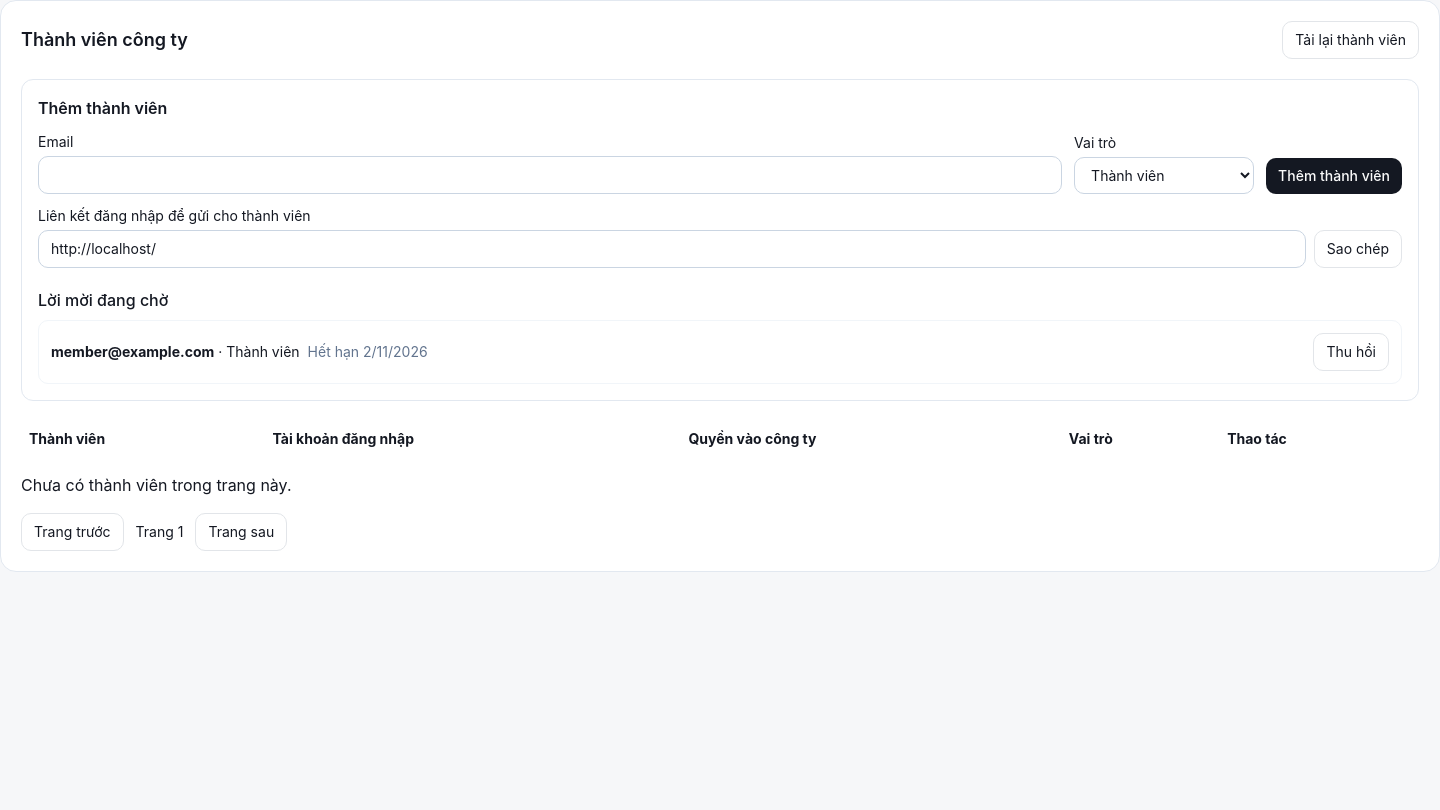
Test: clears a displayed password when fresh authority validation fails
Expected: the text "member@example.com" is shown, [51,343,214,360]
In the field named "Email thành viên": (550, 175) [38,156,1062,194], type "new@example.com"
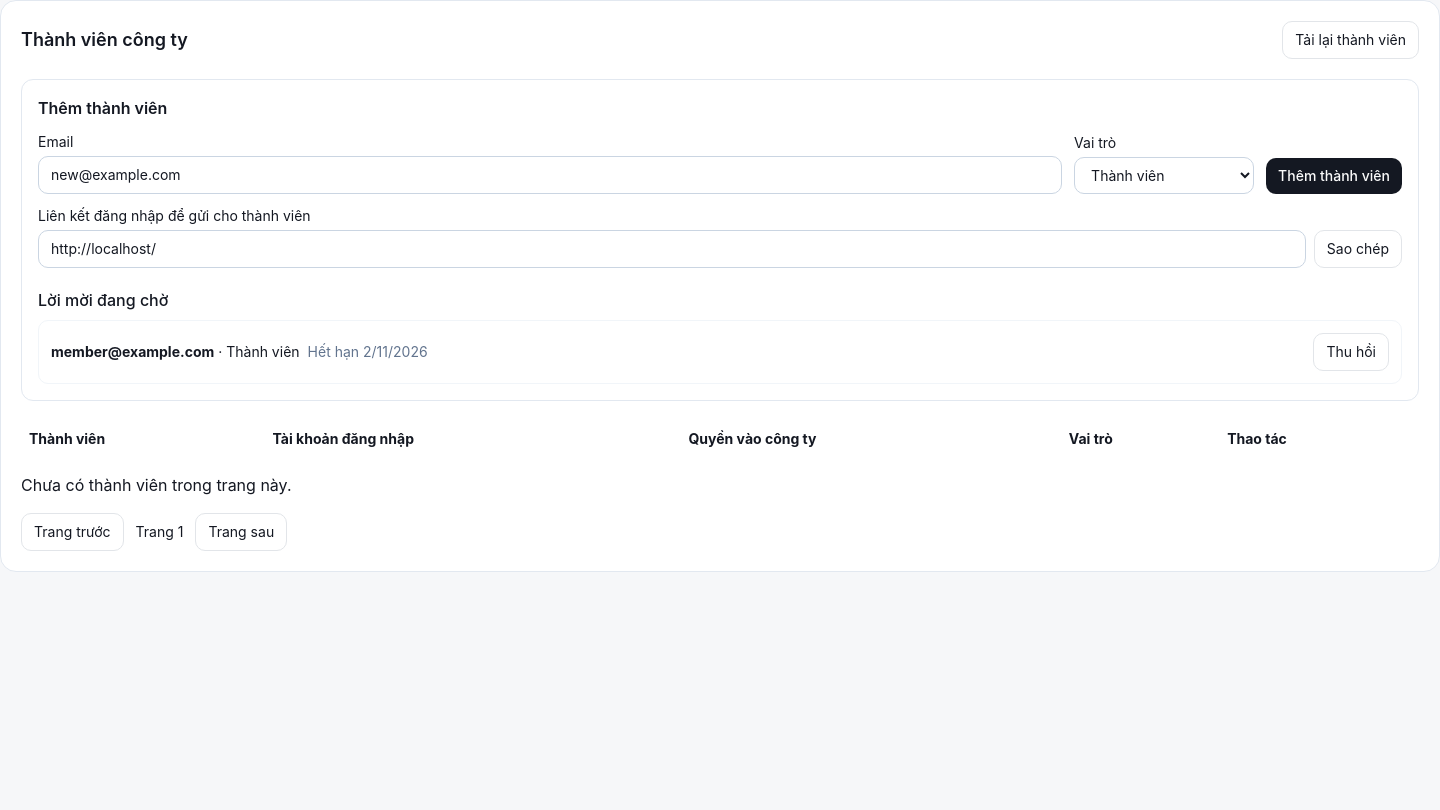
Click the button "Thêm thành viên": (1334, 176) [1266,158,1402,194]
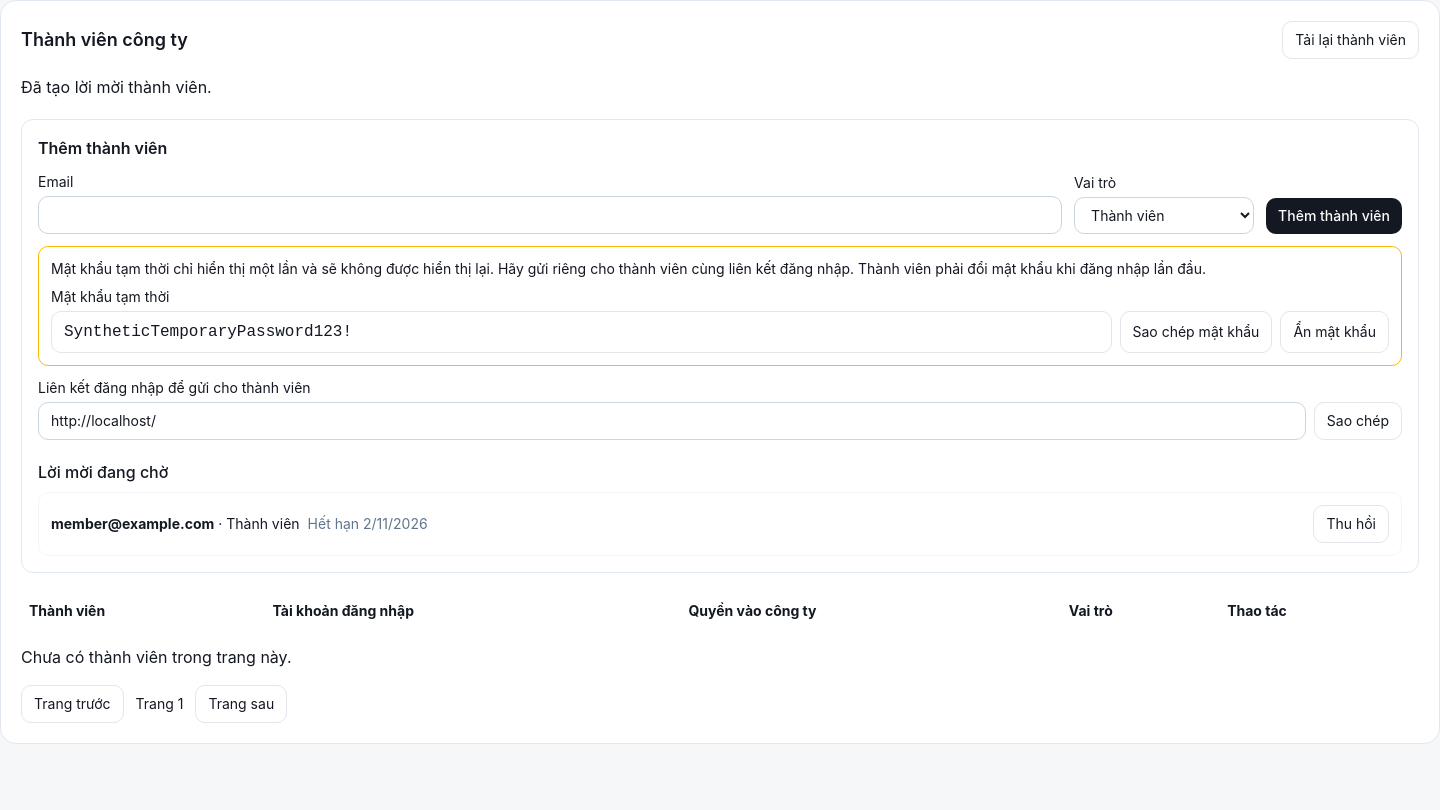
Expected: the text "Đã tạo lời mời thành viên." is shown, [21,77,212,97]
Click the button "Sao chép mật khẩu": (1196, 332) [1120,311,1272,353]
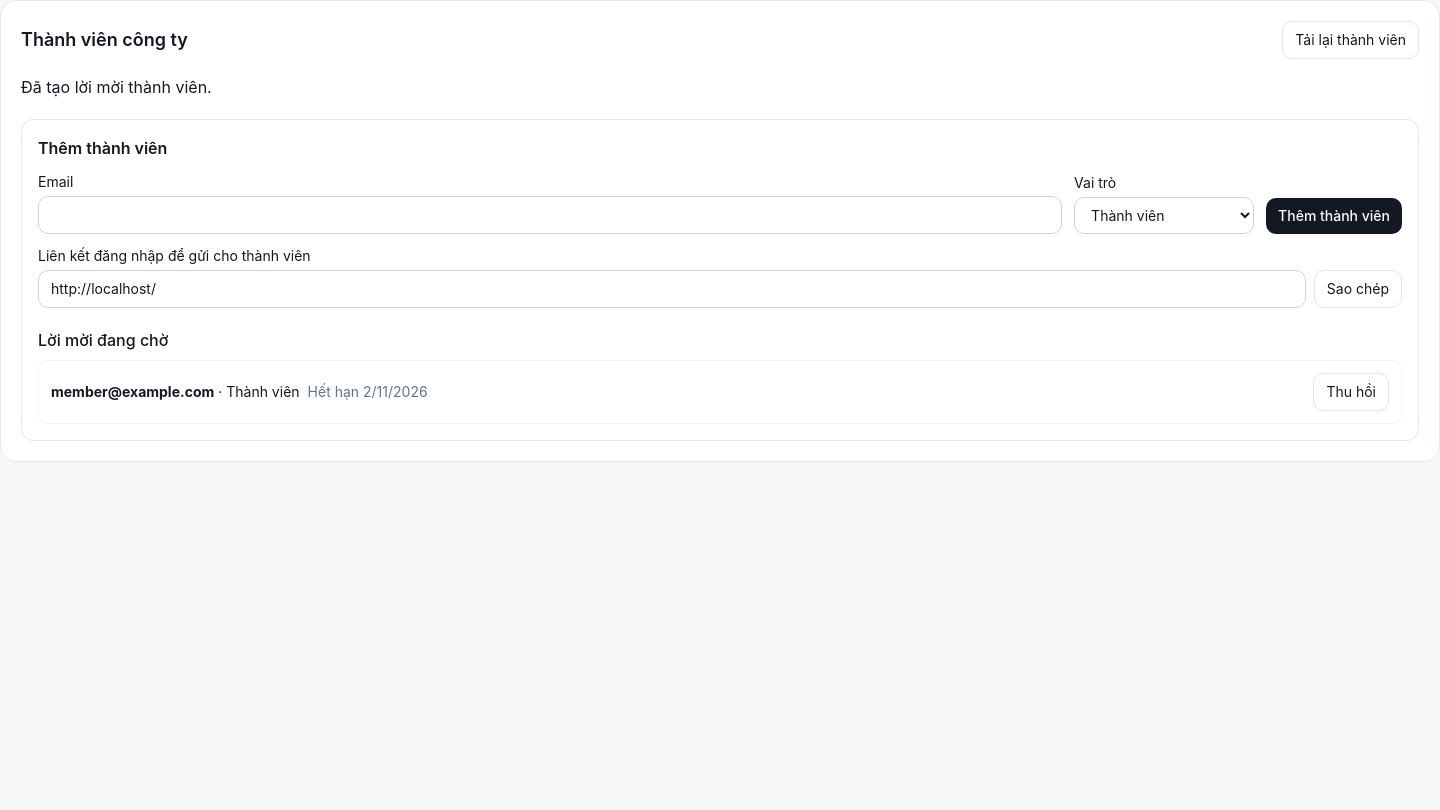
Expected: the text labelled "Mật khẩu tạm thời" is gone
